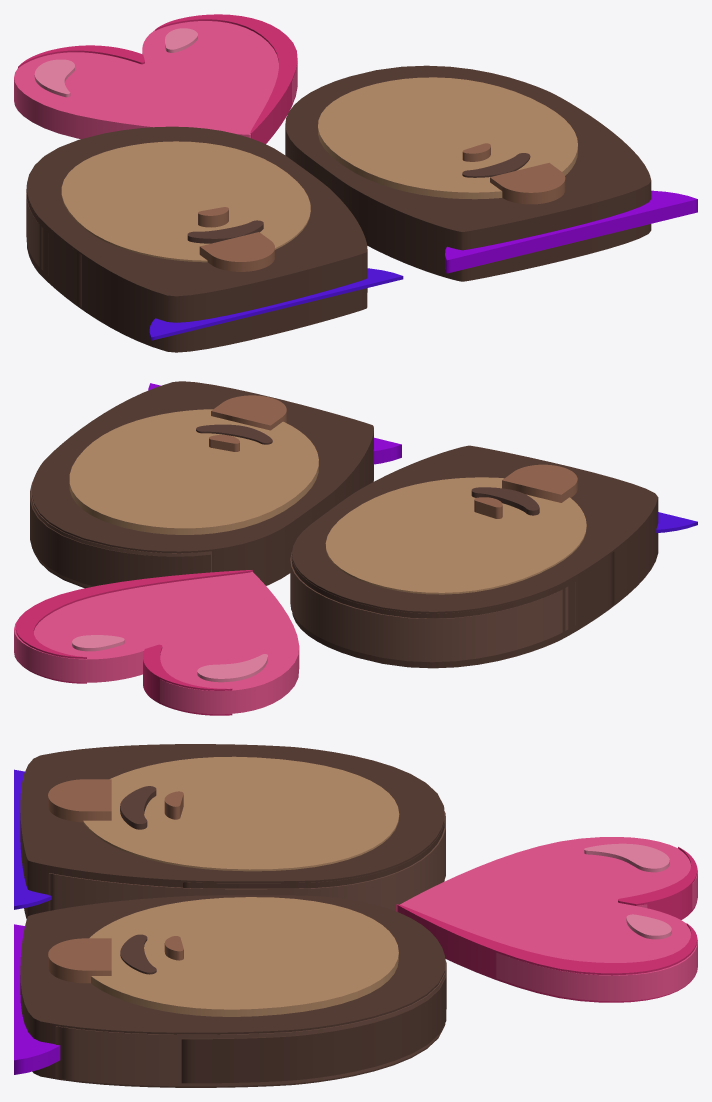
File: emoji_u1f469_1f3fd_200d_2764_200d_1f469_1f3fd.glb
The picture shows the model from 3 angles, top to bottom: view 1: azimuth 30°, elevation 25°; view 2: azimuth 150°, elevation 25°; view 3: azimuth 270°, elevation 25°; orthographic projection. The views are drawn at different scales.
Parts seen in each view (by area): view 1: emoji_u1f469_1f3fd_200d_2764_200d_1f469_1f3fd; view 2: emoji_u1f469_1f3fd_200d_2764_200d_1f469_1f3fd; view 3: emoji_u1f469_1f3fd_200d_2764_200d_1f469_1f3fd.
Part boxes in pixels (x1,y1,x2,y2): emoji_u1f469_1f3fd_200d_2764_200d_1f469_1f3fd: [14, 14, 697, 352]; emoji_u1f469_1f3fd_200d_2764_200d_1f469_1f3fd: [14, 381, 697, 715]; emoji_u1f469_1f3fd_200d_2764_200d_1f469_1f3fd: [14, 744, 697, 1087].
Bounding box in the file's own units: 0.0346 × 0.005 × 0.0337.
